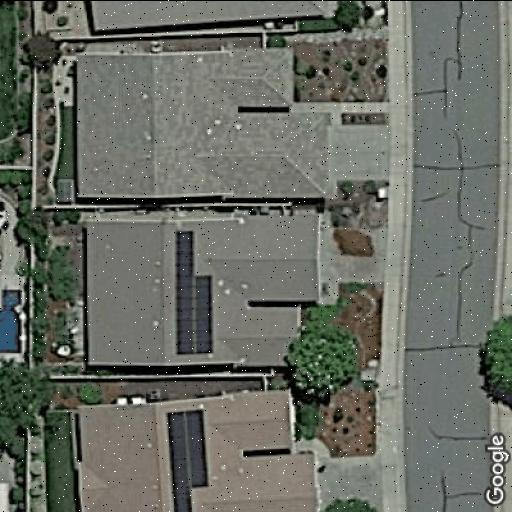solar-panel: (172, 227, 214, 356), (162, 406, 208, 512)
